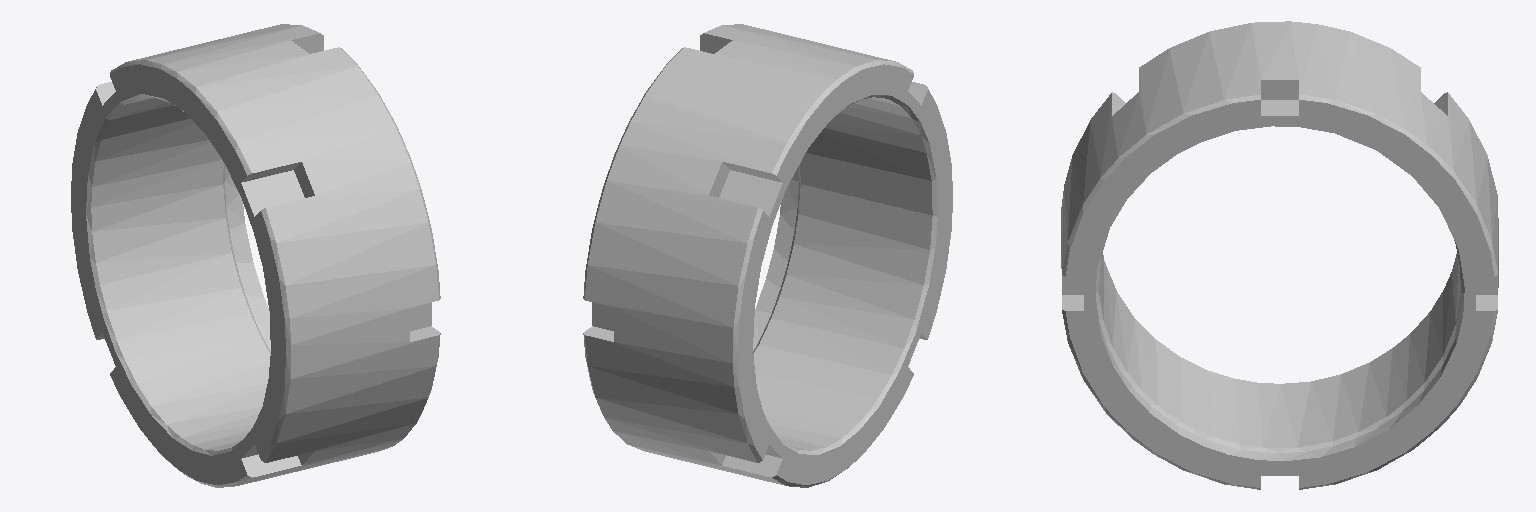
Rendered from rotor nut.obj.
3 views of the same model, side by side, from view 1: azimuth 30°, elevation 25°; view 2: azimuth 150°, elevation 25°; view 3: azimuth 270°, elevation 25° (orthographic).
Visible parts, largest first — view 1: imagetostl_mesh; view 2: imagetostl_mesh; view 3: imagetostl_mesh.
Boxes of the visible parts, x1,y1,x2,y2 form: imagetostl_mesh: [71, 24, 440, 487]; imagetostl_mesh: [583, 24, 952, 487]; imagetostl_mesh: [1061, 21, 1498, 489].
Bounding box in the file's own units: 47 × 115 × 115.